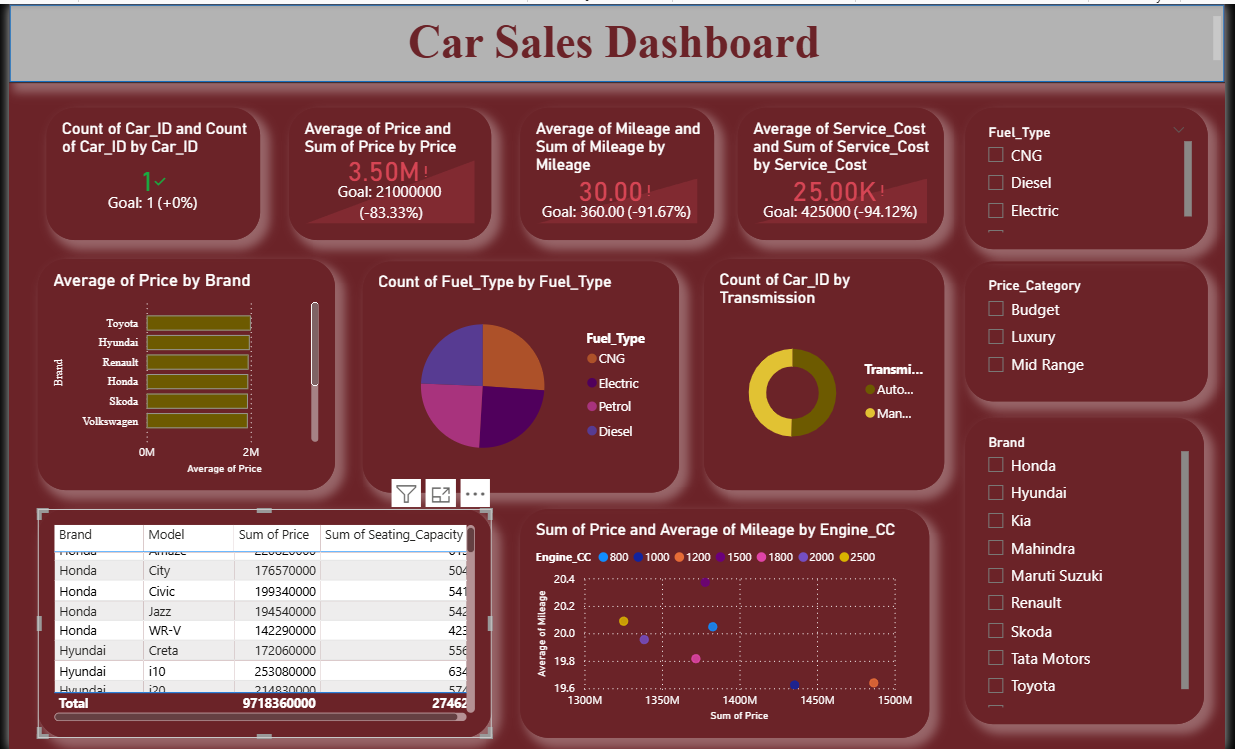

Layout of this report page (visuals, bound fields, positions):
{"tool":"powerbi","page":{"name":"Page 1","canvas":[1280,785],"ordinal":0},"visuals":[{"type":"kpi","fields":{"Indicator":["CountNonNull(car_dataset_india (2).Car_ID)"],"Goal":["CountNonNull(car_dataset_india (2).Car_ID)"],"TrendLine":["car_dataset_india (2).Car_ID"]},"box":[39.5,109.2,224.9,139.4],"z":0},{"type":"kpi","fields":{"Indicator":["Avg(car_dataset_india (2).Price)"],"TrendLine":["car_dataset_india (2).Price"],"Goal":["Sum(car_dataset_india (2).Price)"]},"box":[294.6,109.2,213.1,139.4],"z":1},{"type":"actionButton","box":[0,0,100,40],"z":2},{"type":"kpi","fields":{"Indicator":["Avg(car_dataset_india (2).Mileage)"],"TrendLine":["car_dataset_india (2).Mileage"],"Goal":["Sum(car_dataset_india (2).Mileage)"]},"box":[538,109.2,203.9,139.4],"z":3},{"type":"kpi","fields":{"Indicator":["Avg(car_dataset_india (2).Service_Cost)"],"TrendLine":["car_dataset_india (2).Service_Cost"],"Goal":["Sum(car_dataset_india (2).Service_Cost)"]},"box":[766.9,109.2,217,139.4],"z":4},{"type":"shape","box":[0,0,1280,83.2],"z":5},{"type":"textbox","box":[0,8.4,1280,60.3],"z":6},{"type":"barChart","fields":{"Category":["car_dataset_india (2).Brand"],"Y":["Avg(car_dataset_india (2).Price)"]},"box":[30.3,268.3,313.1,243.3],"z":7},{"type":"pieChart","fields":{"Category":["car_dataset_india (2).Fuel_Type"],"Y":["CountNonNull(car_dataset_india (2).Fuel_Type)"]},"box":[372.2,271,332.8,243.3],"z":8},{"type":"donutChart","fields":{"Y":["CountNonNull(car_dataset_india (2).Car_ID)"],"Category":["car_dataset_india (2).Transmission"]},"box":[731.3,268.3,252.5,243.3],"z":9},{"type":"scatterChart","fields":{"X":["Sum(car_dataset_india (2).Price)"],"Y":["Avg(car_dataset_india (2).Mileage)"],"Series":["car_dataset_india (2).Engine_CC"]},"box":[538,531.4,430.1,240.7],"z":10},{"type":"tableEx","fields":{"Values":["car_dataset_india (2).Brand","car_dataset_india (2).Model","Sum(car_dataset_india (2).Price)","Sum(car_dataset_india (2).Seating_Capacity)"]},"box":[30.3,531.4,477.5,240.7],"z":11},{"type":"slicer","fields":{"Values":["car_dataset_india (2).Brand"]},"box":[1006.2,435.4,251.2,322.3],"z":12},{"type":"slicer","fields":{"Values":["car_dataset_india (2).Fuel_Type"]},"box":[1006.2,109.2,255.2,148.6],"z":13},{"type":"slicer","fields":{"Values":["car_dataset_india (2).Price_Category"]},"box":[1006.2,271,255.2,147.3],"z":14}]}

Visuals, with their boxes in screenshot pixels (x1, y1, x2, y2), scaled from the page's 1280x785 canvas onto the 1235x749 screenshot:
kpi - CountNonNull(car_dataset_india (2).Car_ID) x CountNonNull(car_dataset_india (2).Car_ID): [38,104,255,237]
kpi - Avg(car_dataset_india (2).Price) x car_dataset_india (2).Price: [284,104,490,237]
actionButton: [0,0,96,38]
kpi - Avg(car_dataset_india (2).Mileage) x car_dataset_india (2).Mileage: [519,104,716,237]
kpi - Avg(car_dataset_india (2).Service_Cost) x car_dataset_india (2).Service_Cost: [740,104,949,237]
shape: [0,0,1234,79]
textbox: [0,8,1234,66]
barChart - car_dataset_india (2).Brand x Avg(car_dataset_india (2).Price): [29,256,331,488]
pieChart - car_dataset_india (2).Fuel_Type x CountNonNull(car_dataset_india (2).Fuel_Type): [359,259,680,491]
donutChart - CountNonNull(car_dataset_india (2).Car_ID) x car_dataset_india (2).Transmission: [706,256,949,488]
scatterChart - Sum(car_dataset_india (2).Price) x Avg(car_dataset_india (2).Mileage): [519,507,934,737]
tableEx - car_dataset_india (2).Brand x car_dataset_india (2).Model: [29,507,490,737]
slicer - car_dataset_india (2).Brand: [971,415,1213,723]
slicer - car_dataset_india (2).Fuel_Type: [971,104,1217,246]
slicer - car_dataset_india (2).Price_Category: [971,259,1217,399]
